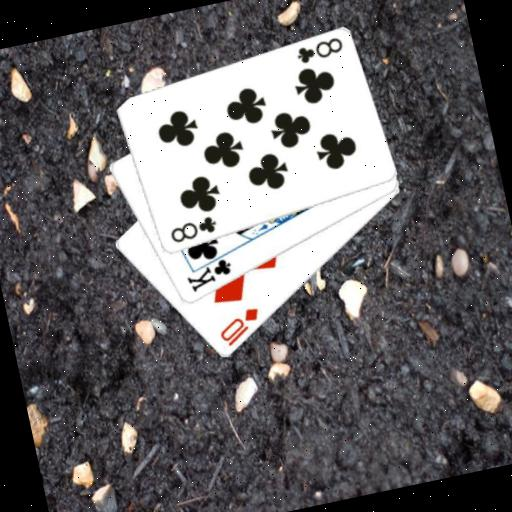10D: (212, 303, 266, 349)
8C: (164, 212, 220, 246), (290, 33, 346, 67)
KC: (179, 248, 238, 295)
